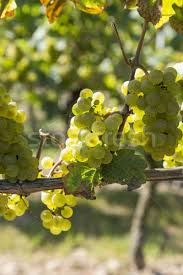grapes: (59, 86, 119, 207), (125, 64, 183, 155), (4, 93, 38, 225)
